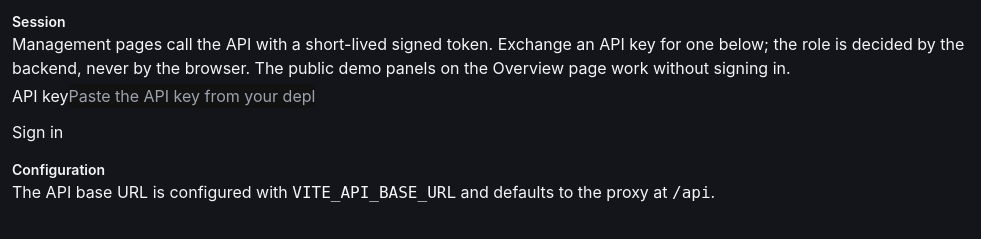
SettingsPage › requires a key before calling the API
This screenshot has width=981, height=239.
Click the button "Sign in" at point(38, 132), box [12,120,63,144]
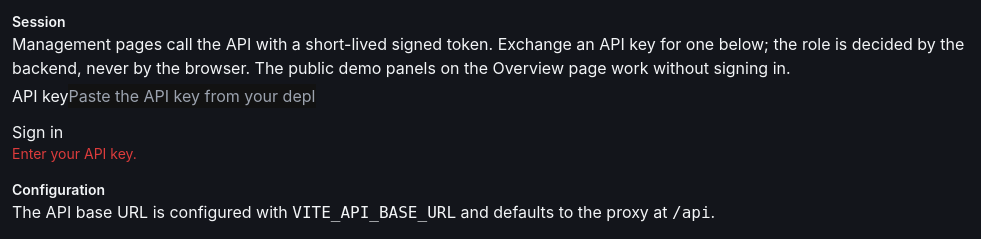
Result: the message shows "Enter your API key" at [12,145,137,162]
